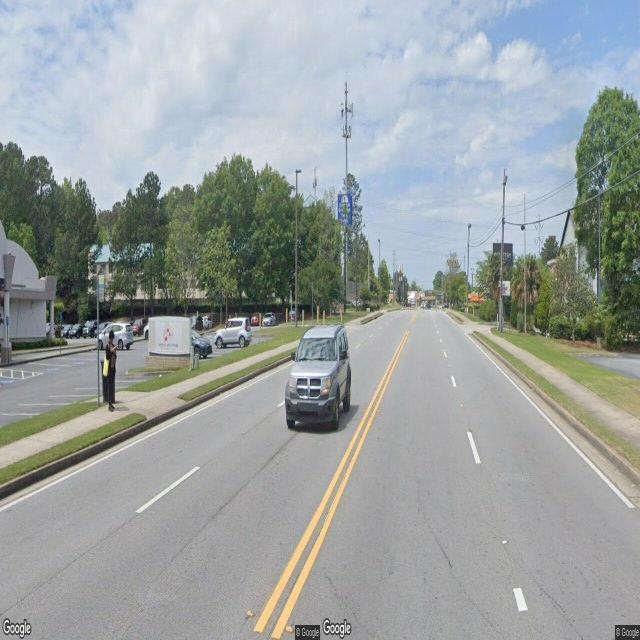trash_can: (100, 360, 116, 402)
